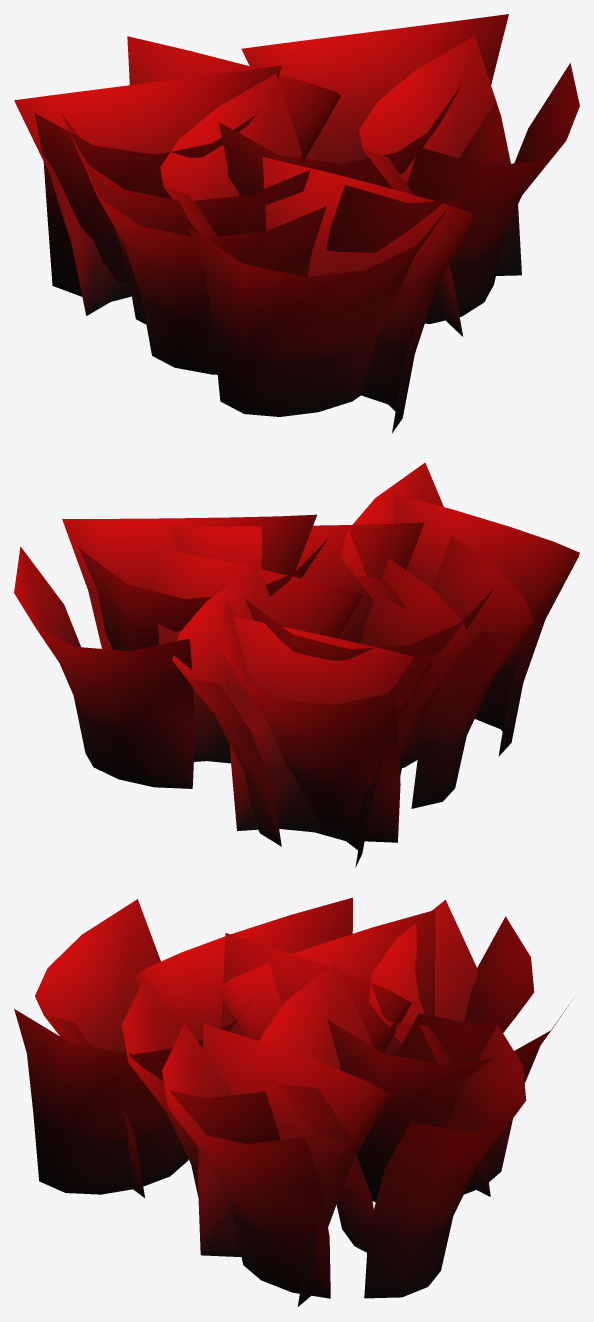
Rendered from trava2.FBX.
3 renders of one model, top to bottom at view 1: azimuth 30°, elevation 25°; view 2: azimuth 150°, elevation 25°; view 3: azimuth 270°, elevation 25°, orthographic. The views are drawn at different scales.
Parts seen in each view (by area): view 1: Plane03; view 2: Plane03; view 3: Plane03.
Part boxes in pixels (x1,y1,x2,y2): Plane03: (14, 14, 579, 433); Plane03: (14, 462, 579, 867); Plane03: (14, 897, 573, 1306).
Size of the model in its own units: 55.26 by 22.92 by 56.65.
